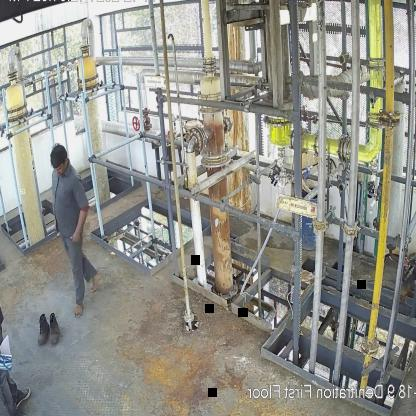no_shoes: (90, 274, 107, 293), (73, 297, 86, 317)
shoes: (34, 311, 51, 351), (48, 312, 63, 345)
